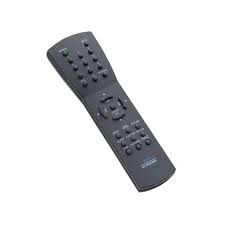remote control: (40, 26, 180, 196)
